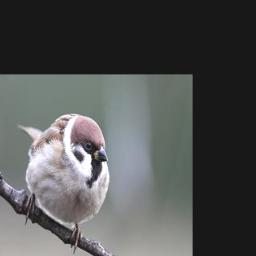Sparrow: (18, 112, 110, 253)
